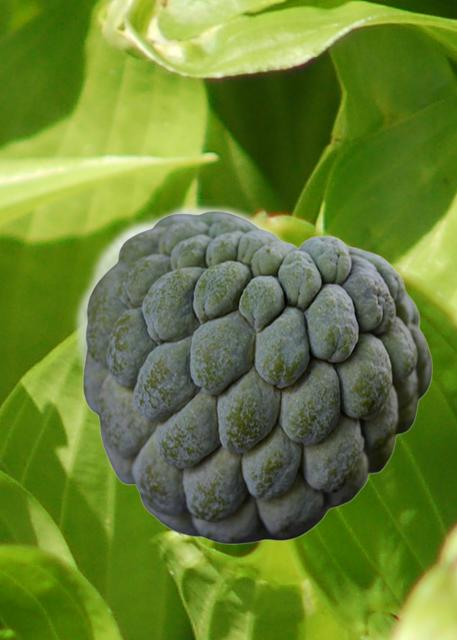atis: (82, 210, 431, 543), (70, 199, 306, 421)
